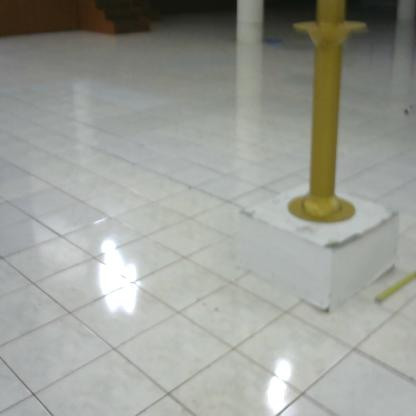pole: (284, 1, 370, 237)
